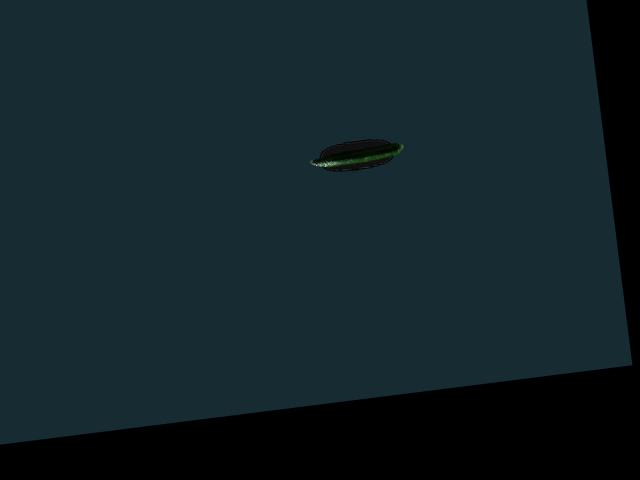cucumber: (308, 141, 404, 168)
